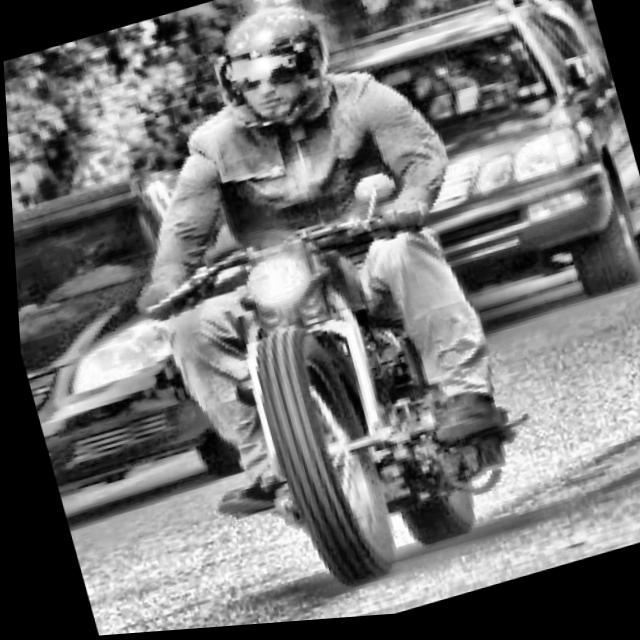motorcycle: (106, 146, 561, 632)
